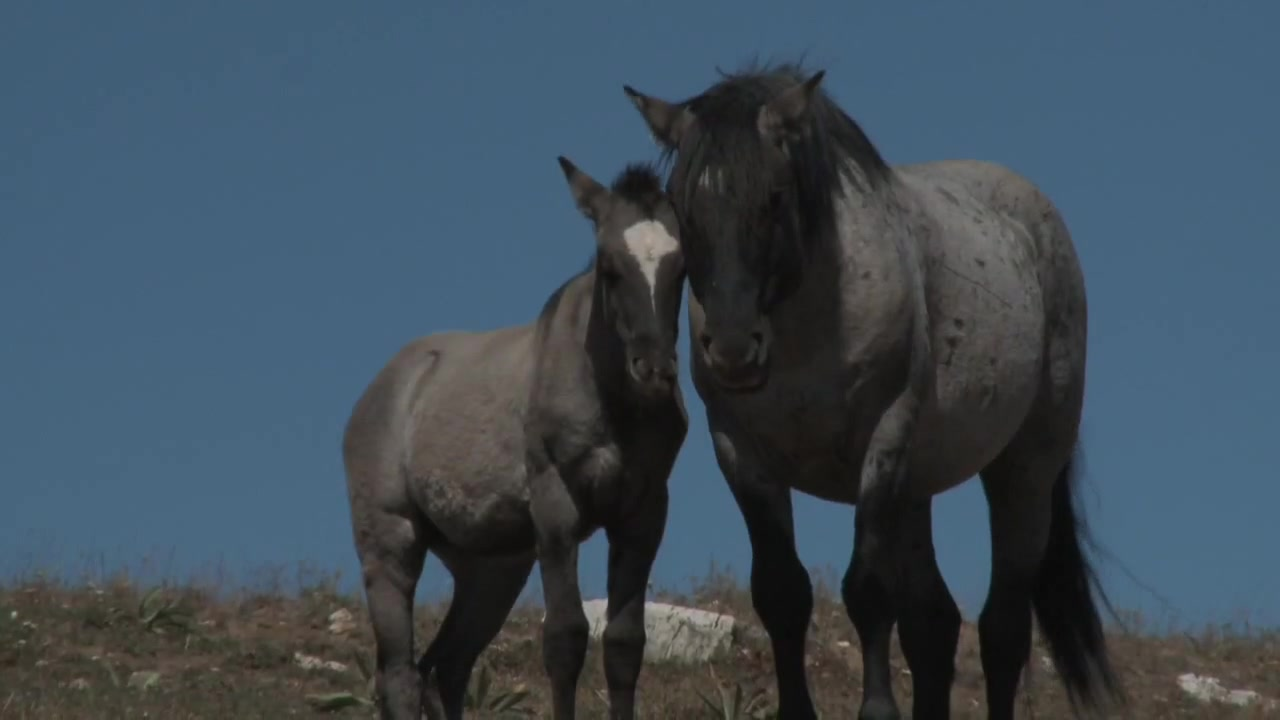horse: (623, 56, 1126, 717), (338, 154, 695, 720)
